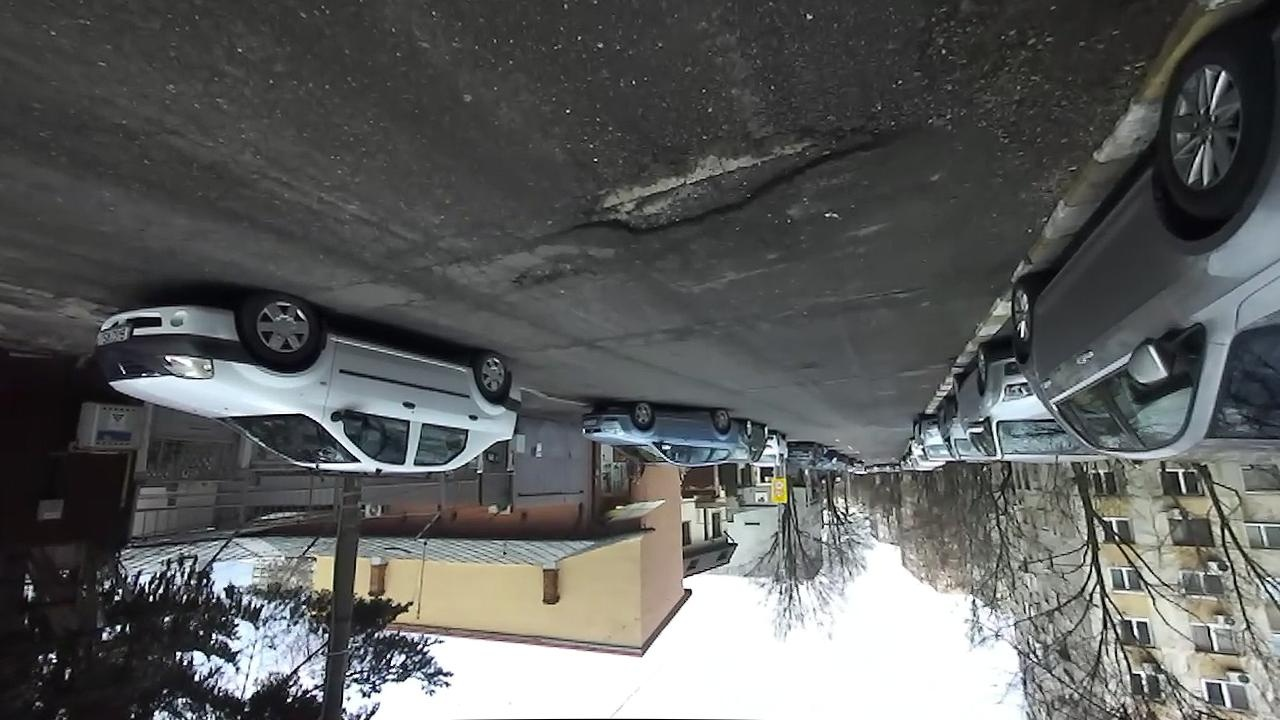pothole: (558, 118, 899, 240), (507, 255, 587, 297), (843, 282, 928, 307)
